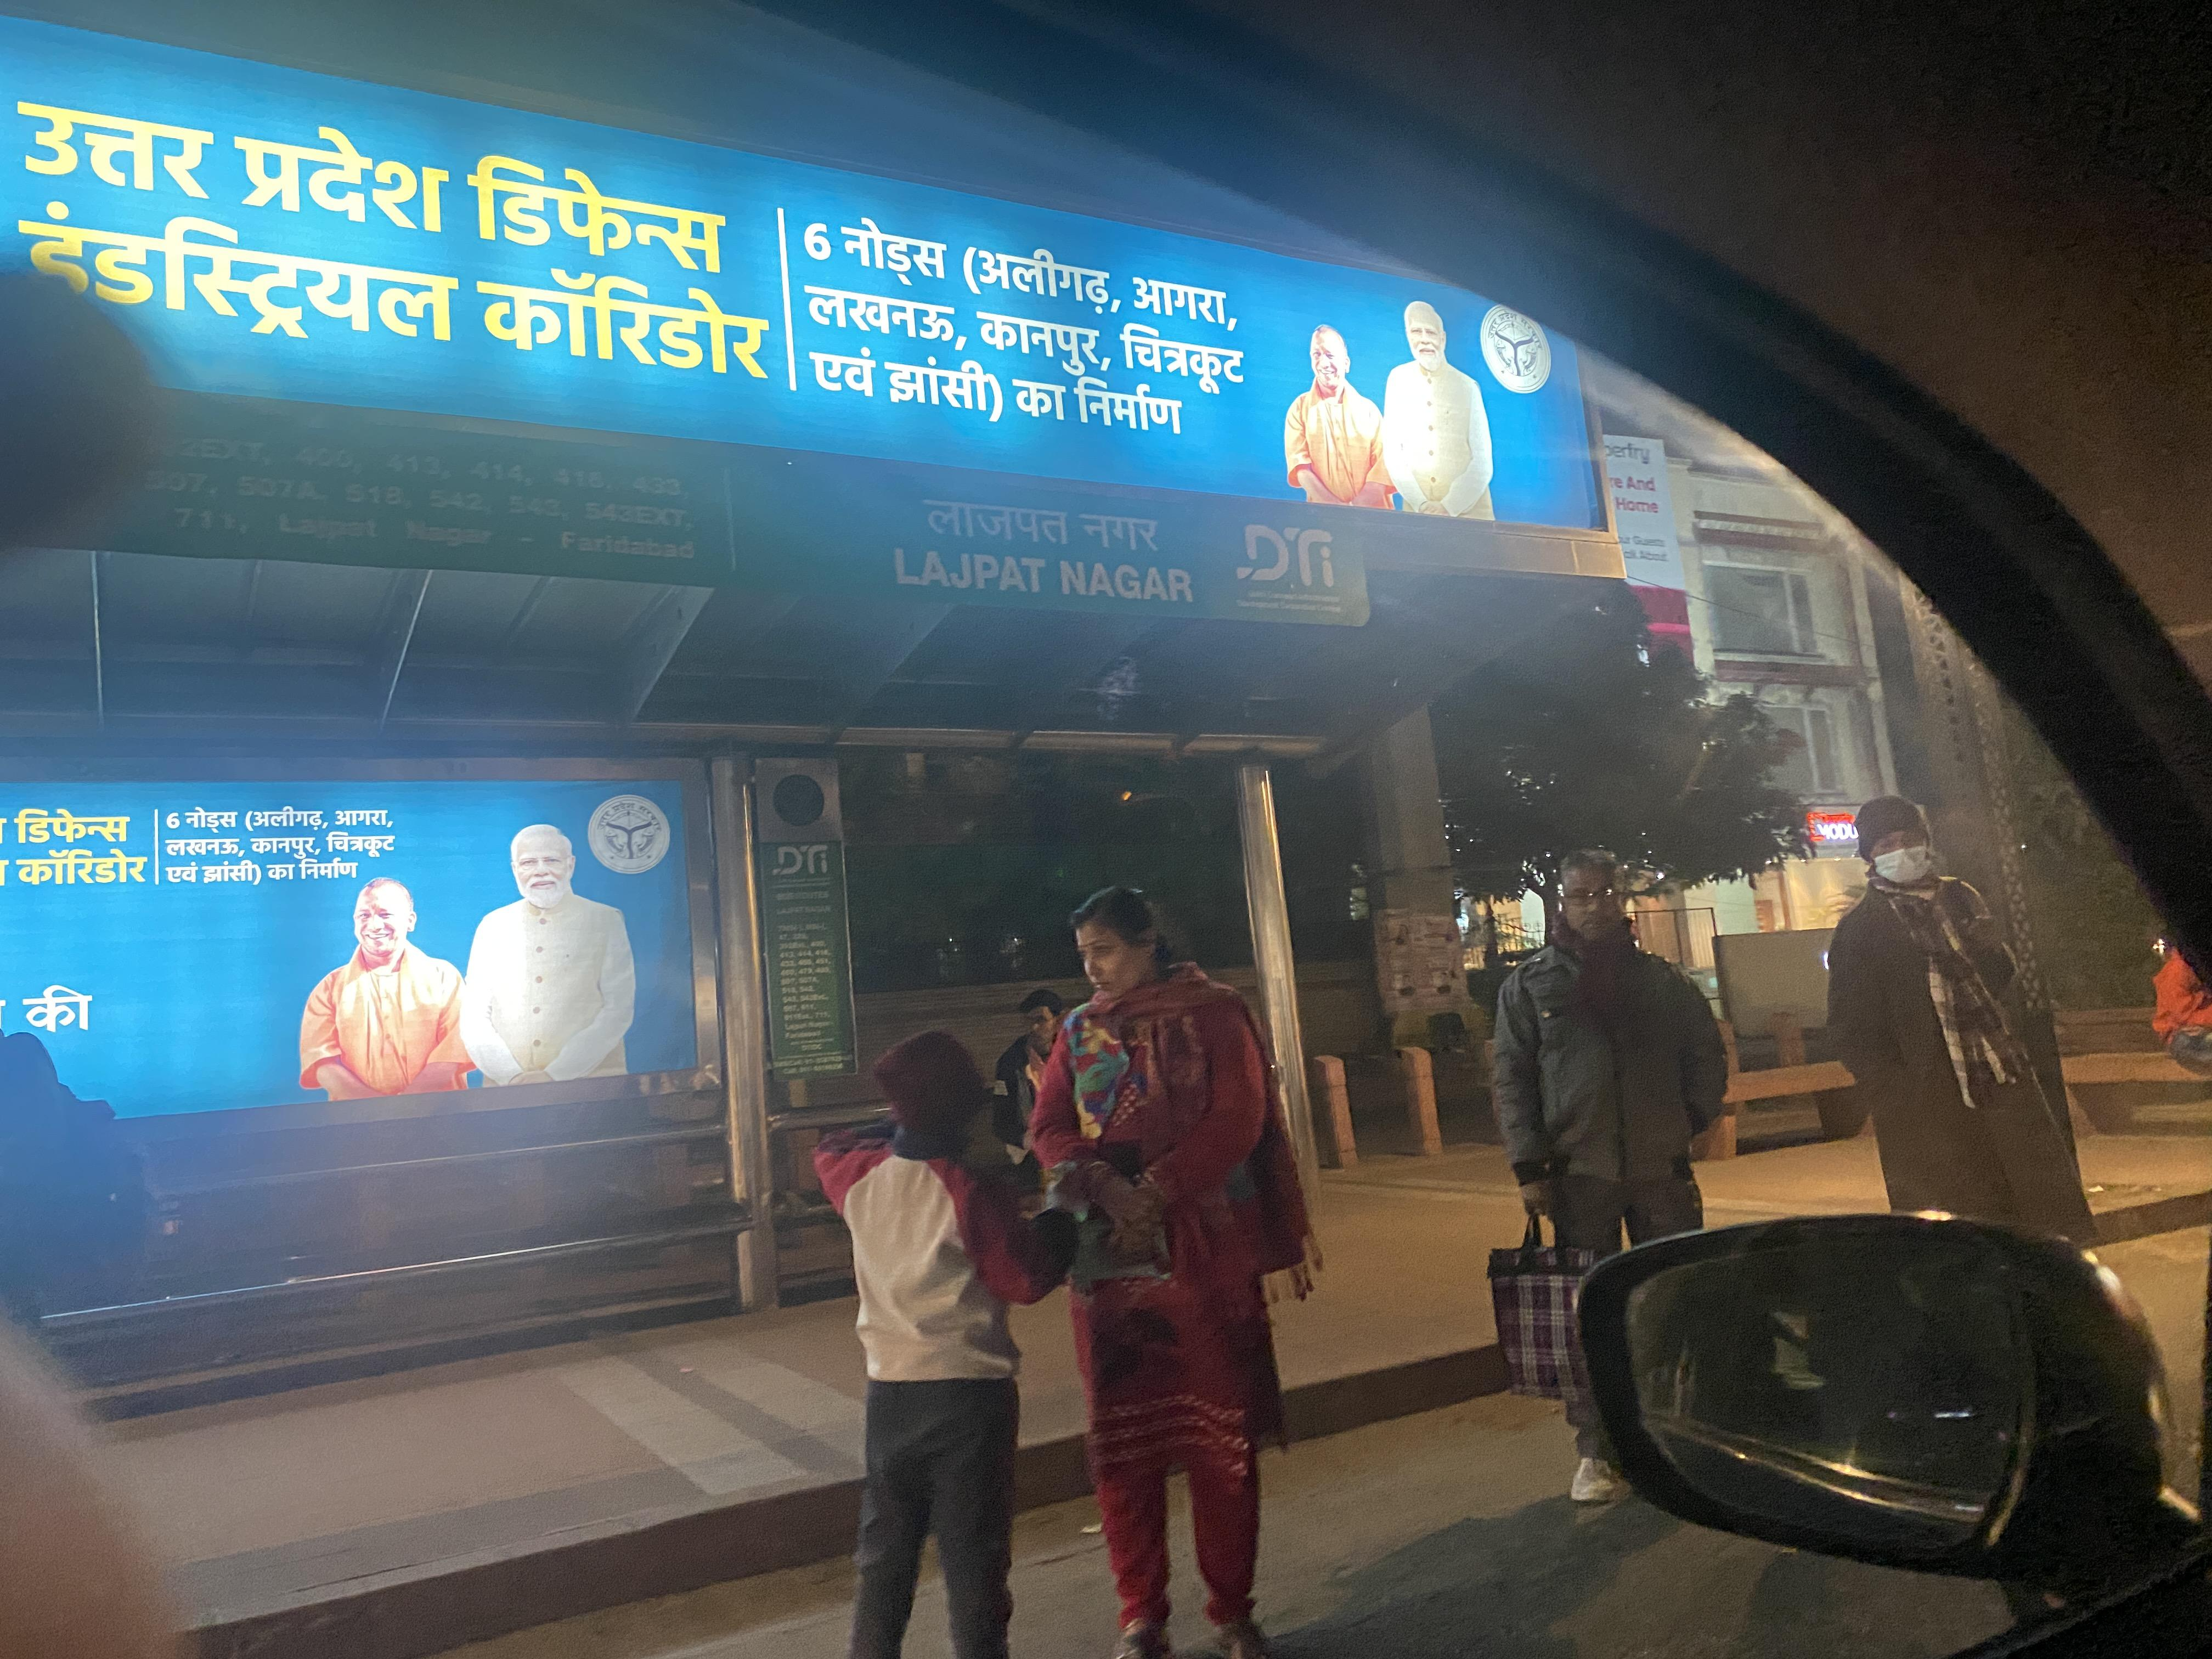Bus-stop-board: (0, 439, 1371, 641)
